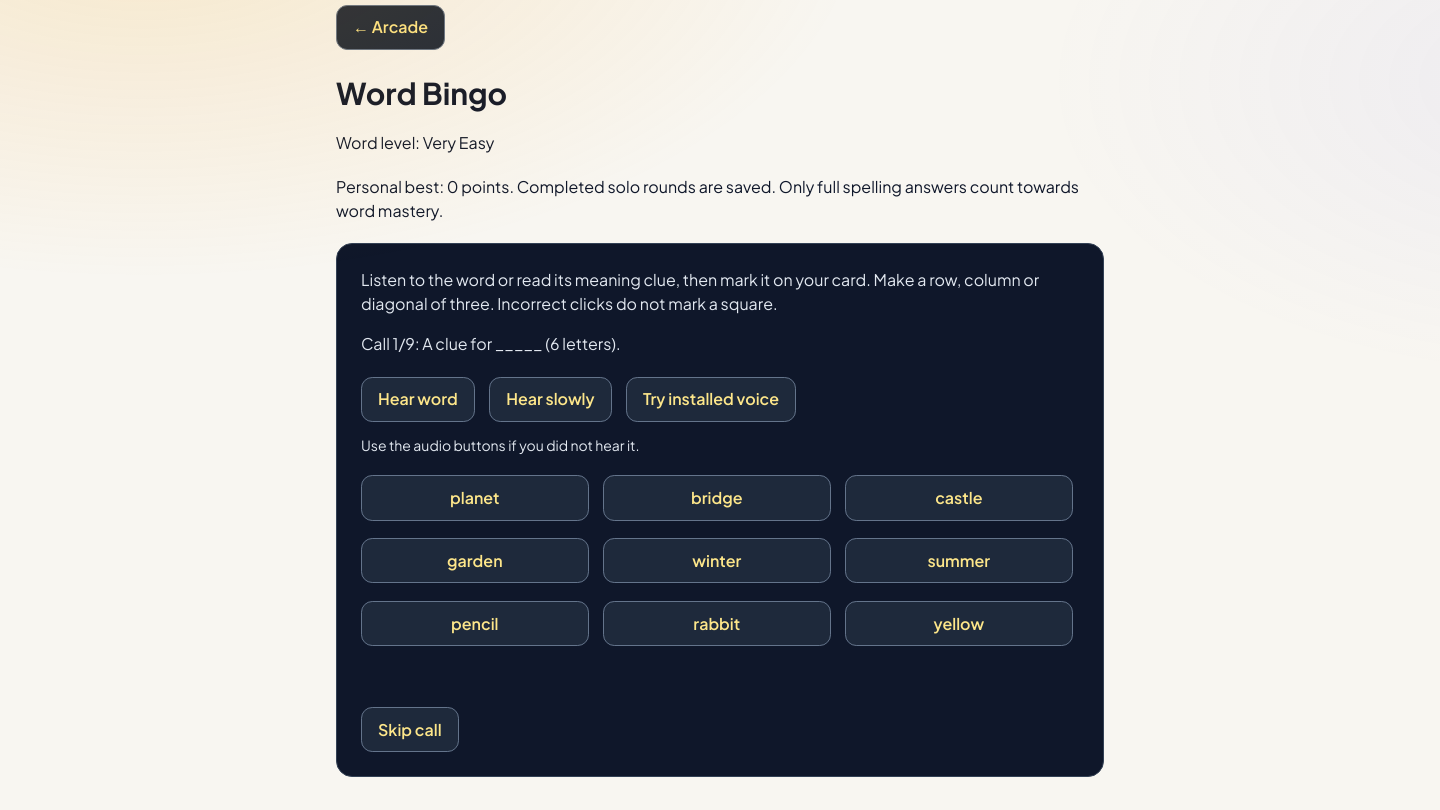
Test: bingo only marks matching calls and ends on a line
Later steps or results of the test are not shown.
Click the button "bridge" at (717, 498), box [603,475,831,521]
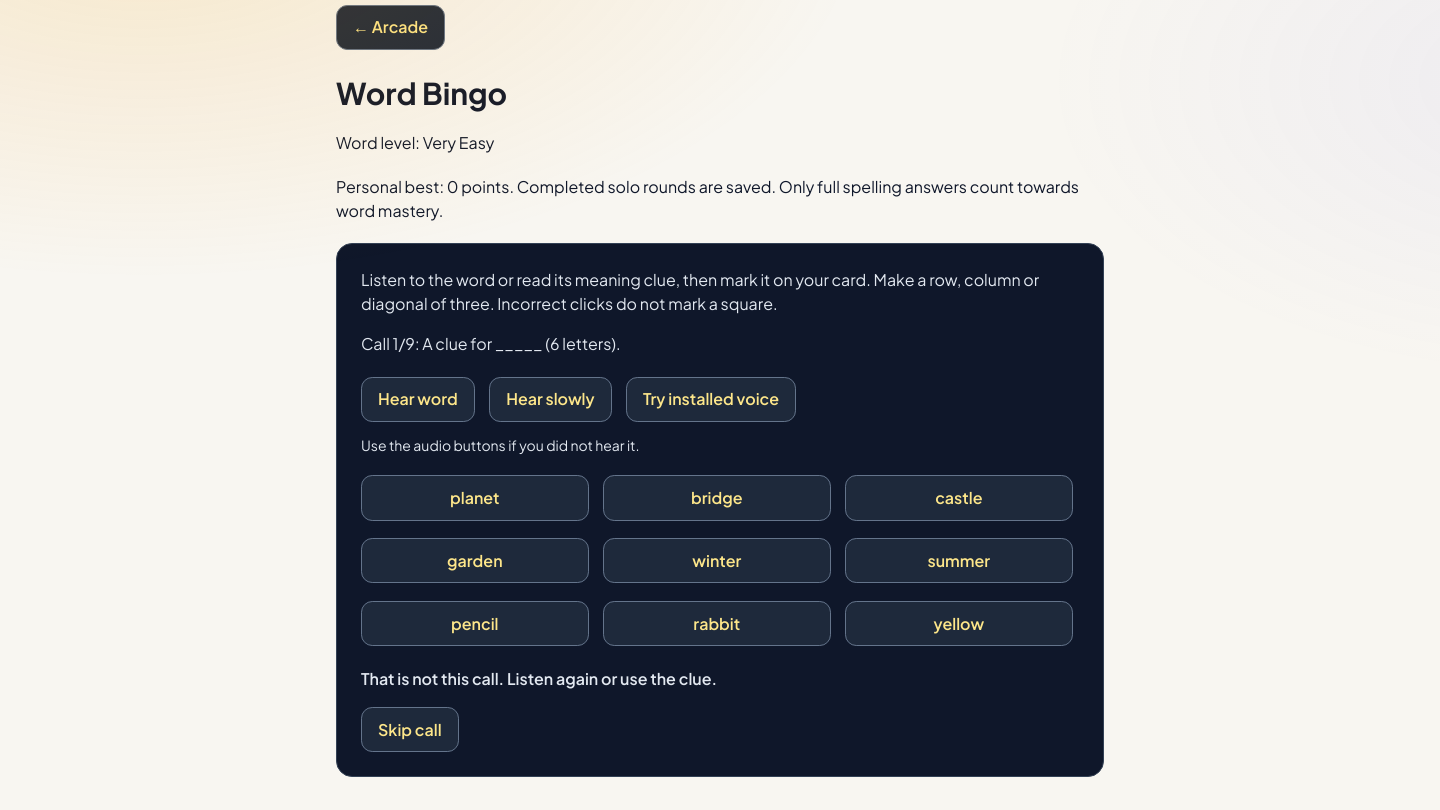
Expected: the text "not this call" is shown, [361,668,717,689]
Click the button "planet" at (475, 498), box [361,475,589,521]
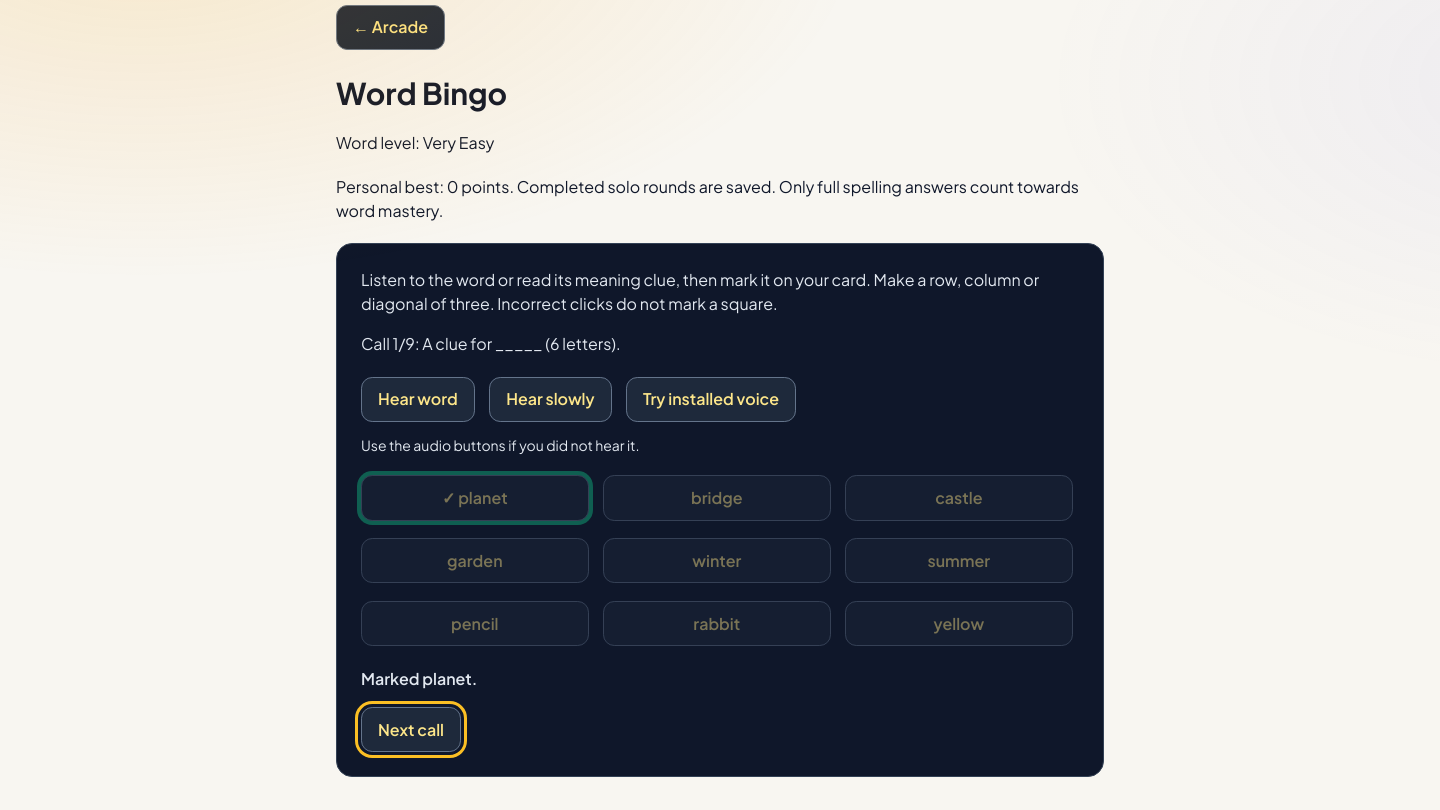
Click the button "Next call" at (411, 730), box [361,707,461,752]
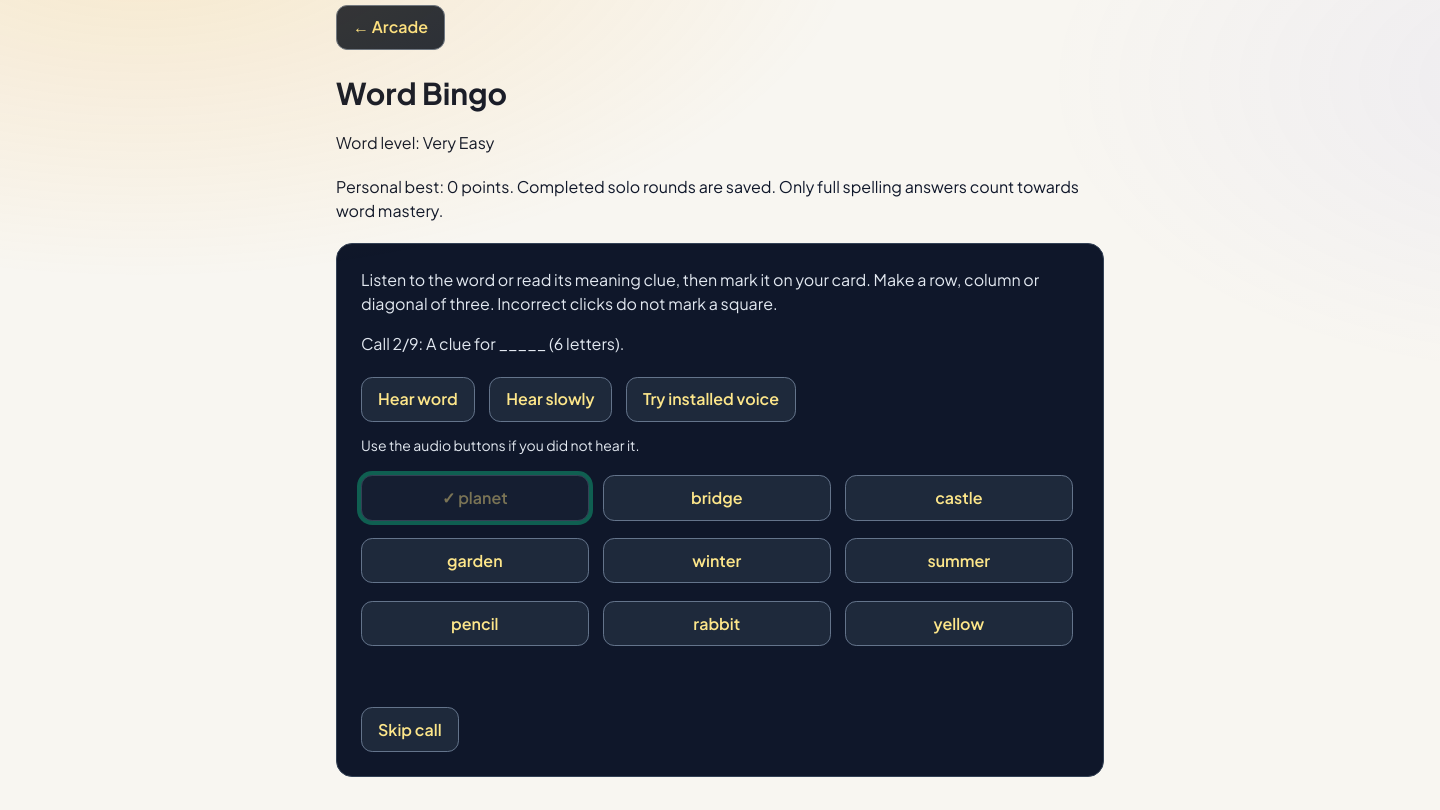
Click the button "bridge" at (717, 498), box [603,475,831,521]
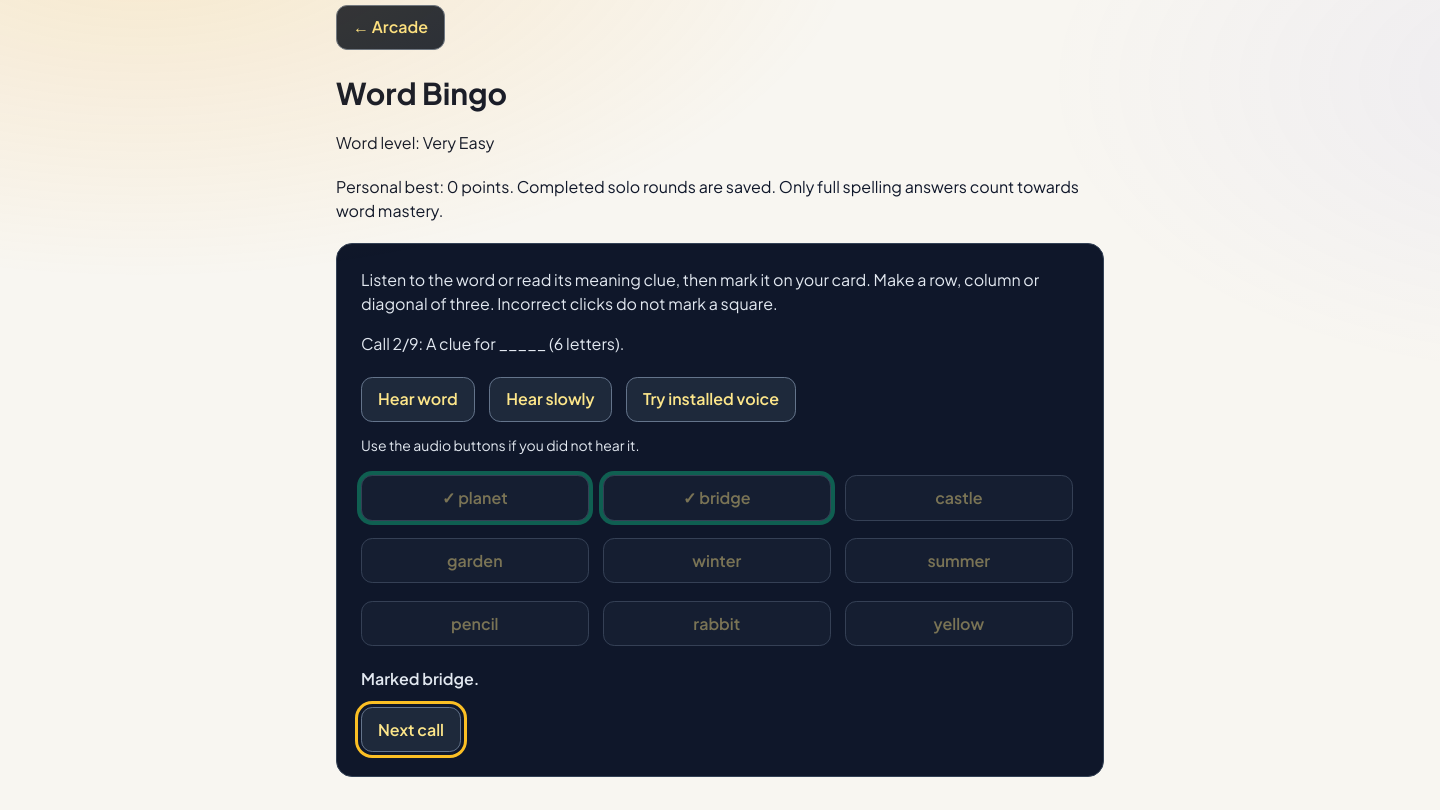
Click the button "Next call" at (411, 730), box [361,707,461,752]
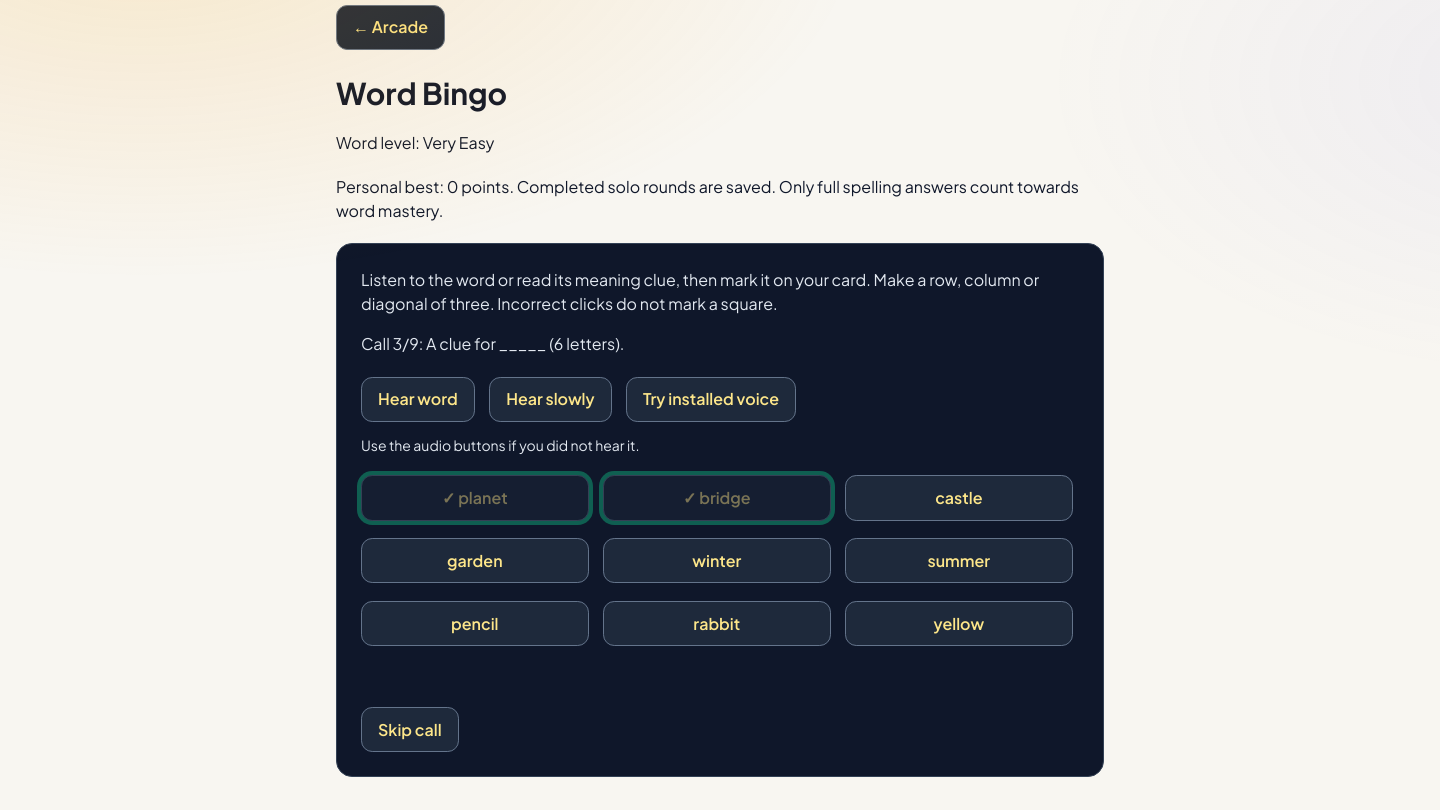
Click the button "castle" at (959, 498), box [845,475,1073,521]
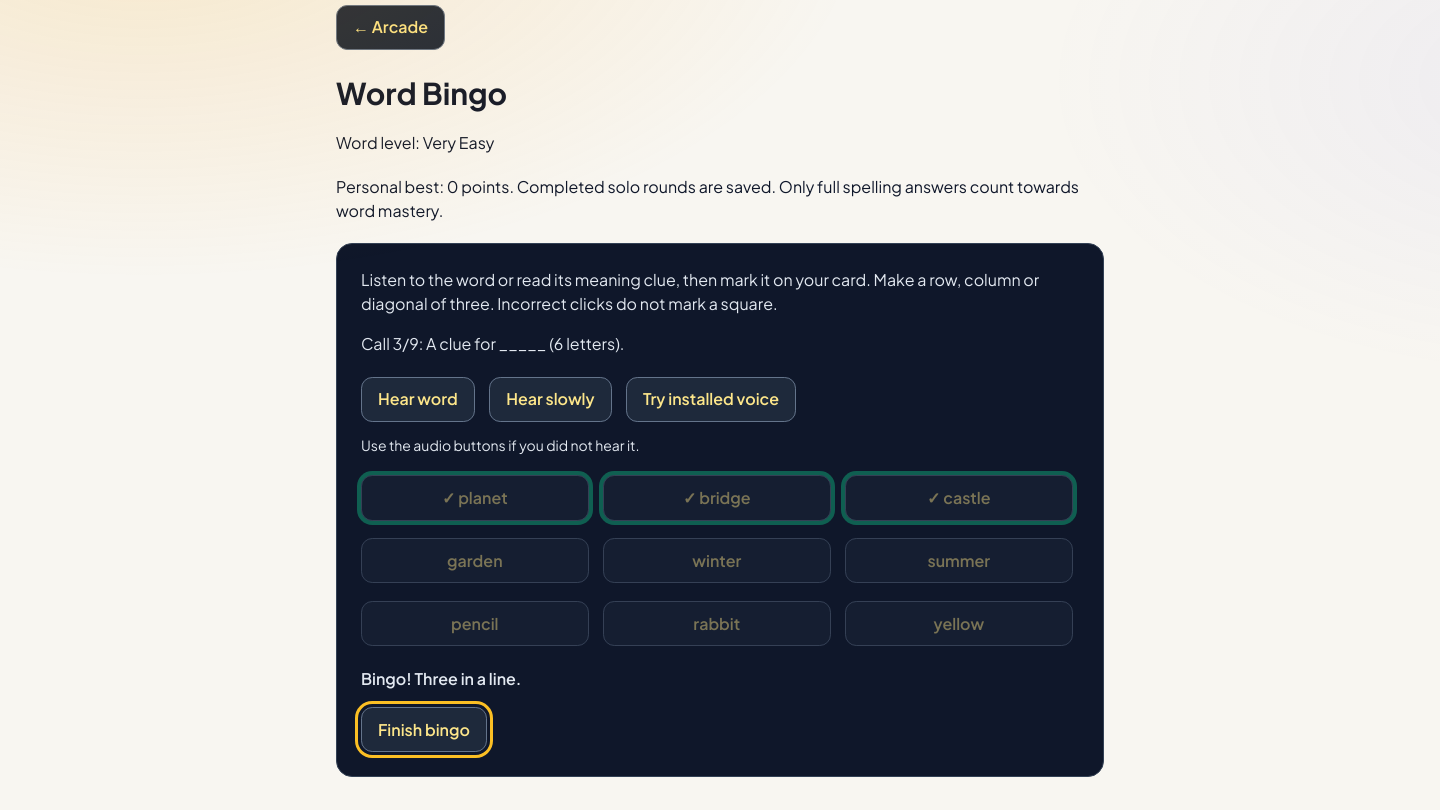
Expected: the text "Bingo!" is shown, [361,668,521,689]
